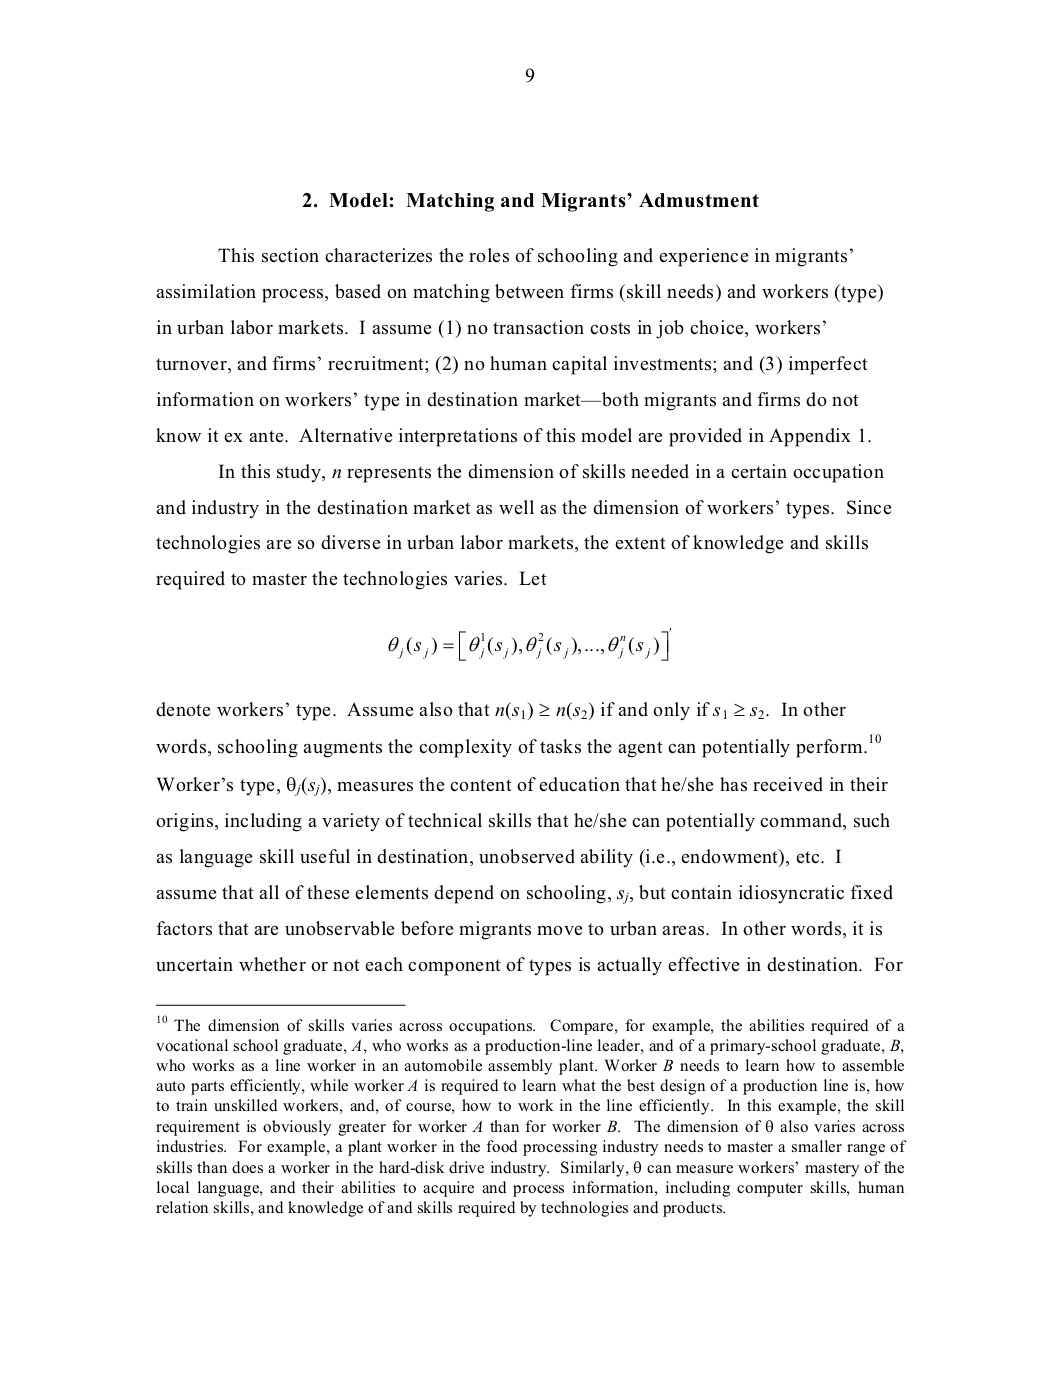figure: (156, 1002, 405, 1006)
formula: (388, 629, 671, 661)
